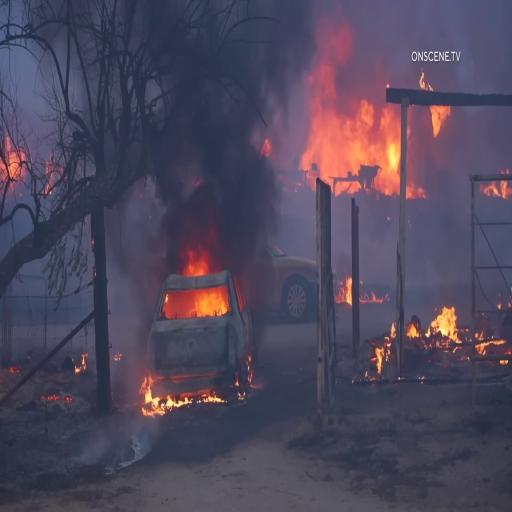fire: (307, 25, 404, 190), (179, 259, 233, 329)
smoke: (162, 0, 265, 263)
